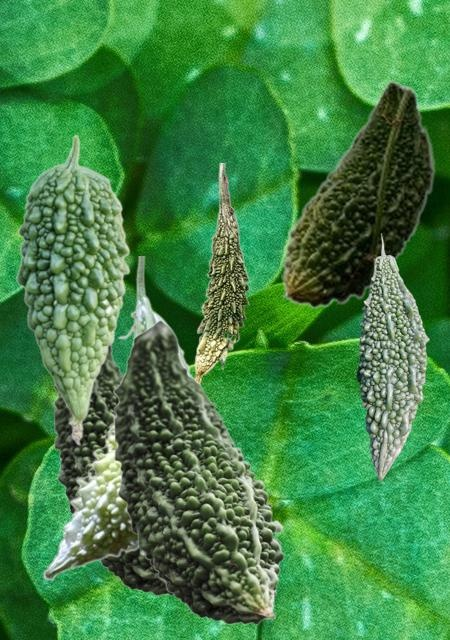ampalaya: (113, 319, 284, 624), (42, 256, 197, 580), (15, 134, 129, 445), (281, 80, 435, 308), (53, 345, 172, 595), (356, 233, 428, 480), (194, 163, 249, 384)
